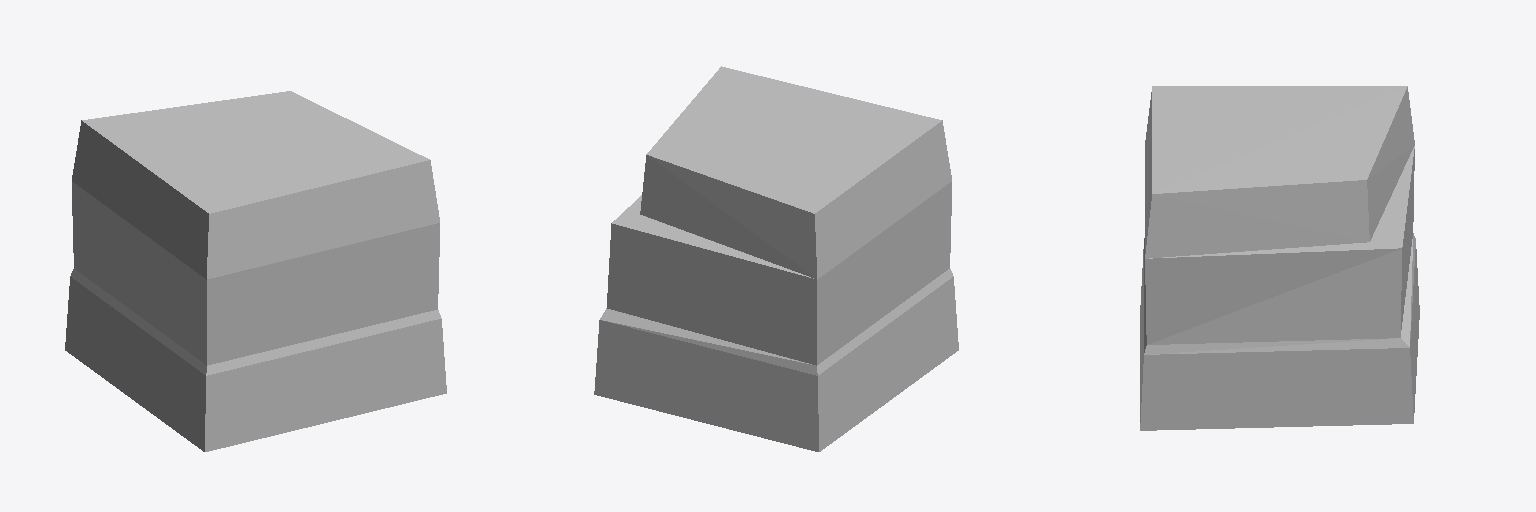
Rendered from corner.obj.
The picture shows the model from 3 angles: view 1: azimuth 30°, elevation 25°; view 2: azimuth 150°, elevation 25°; view 3: azimuth 270°, elevation 25°; orthographic projection.
Size of the model in its own units: 1.09 by 1 by 1.09.